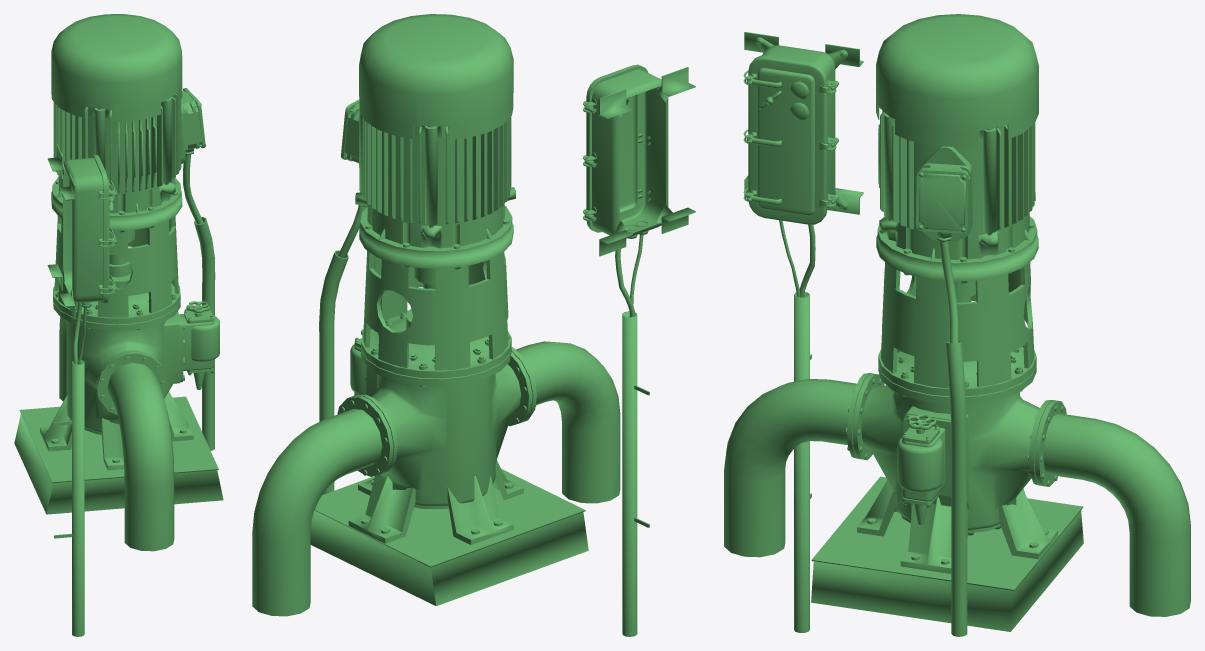
File: Engine3.fbx
The picture shows the model from 3 angles, left to right: view 1: azimuth 30°, elevation 25°; view 2: azimuth 150°, elevation 25°; view 3: azimuth 270°, elevation 25°; orthographic projection. The views are drawn at different scales.
Visible parts, largest first — view 1: EnStuff.004; view 2: EnStuff.004; view 3: EnStuff.004.
Part boxes in pixels (x1,y1,x2,y2): EnStuff.004: [14, 14, 223, 636]; EnStuff.004: [252, 14, 695, 636]; EnStuff.004: [724, 14, 1190, 636].
Bounding box in the file's own units: 93.4 × 201 × 131.
